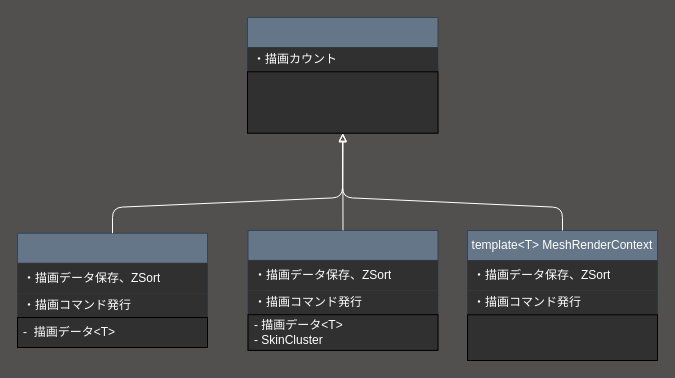
This 675x378 diagram has some shape labels left out. The shapes that lost their labels are listed below. From the top down, each one's box as (x1, y1, x2, y2) in pixels, then its label:
(246, 16, 438, 133): BaseRenderContext
(246, 71, 438, 133): # モデルデータ # GraphicPipeline # DrawCount
(16, 232, 208, 348): template<T> RenderContext
(247, 229, 438, 350): template<T> SkinRenderContext
(466, 314, 658, 360): - 描画データ<T> - MeshShader用StructuredBuffer
